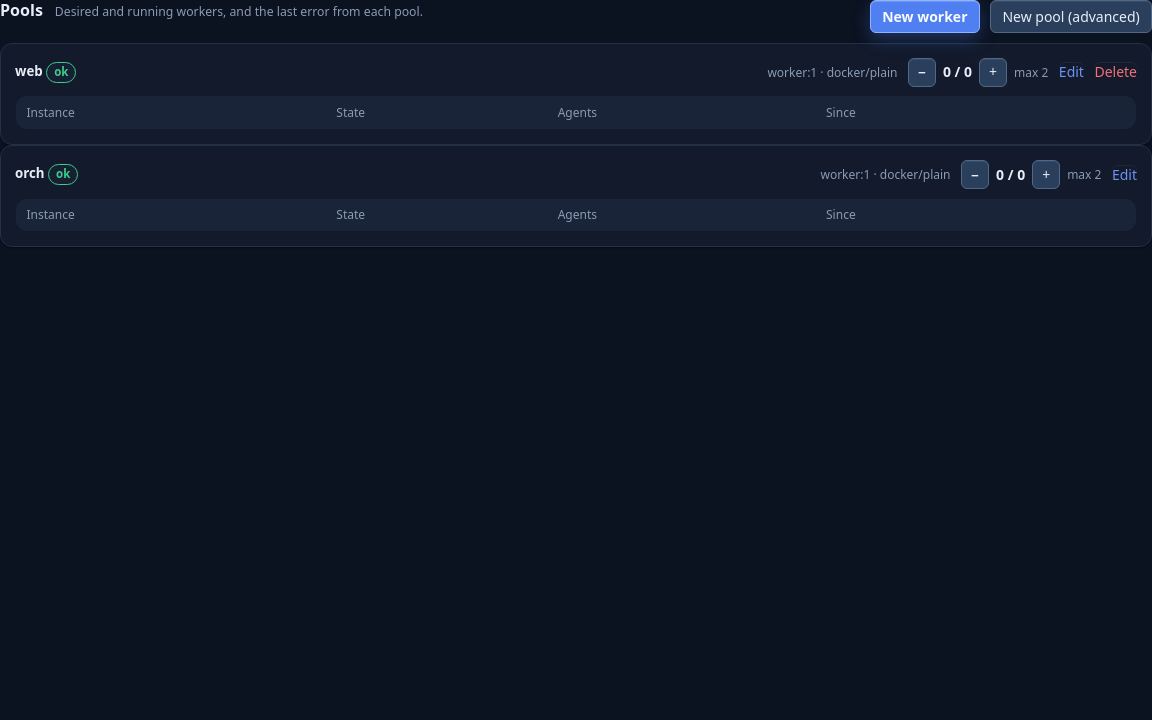
Test: Pools delete › hides Delete on system pools and enables only when the name matches
The width and height of the screenshot is (1152, 720).
Expected: the number of buttons "Edit" is 2, 1059,62 -> 1084,82; 1112,164 -> 1137,185
Click the button "Delete" at (1116, 72), box 1094,62 -> 1137,82
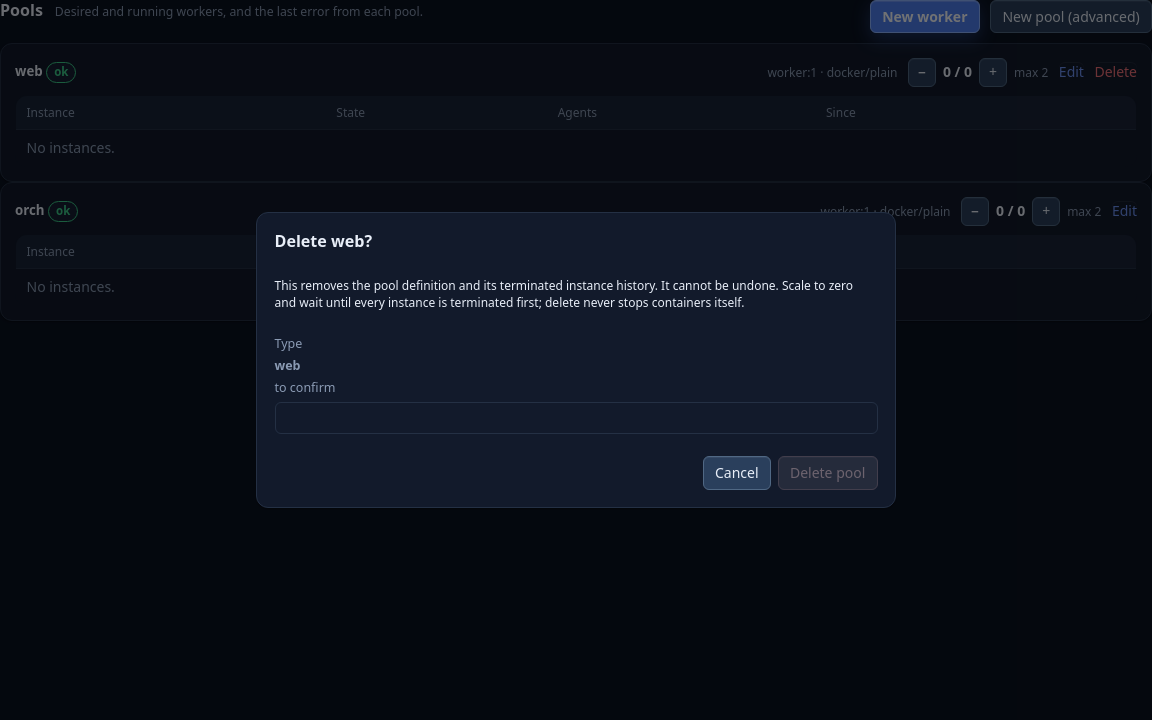
Expected: the button "Delete pool" is disabled, 778,456 -> 878,490
Type "we" into the field named "Confirm pool name" at (576, 418), box 274,402 -> 878,434
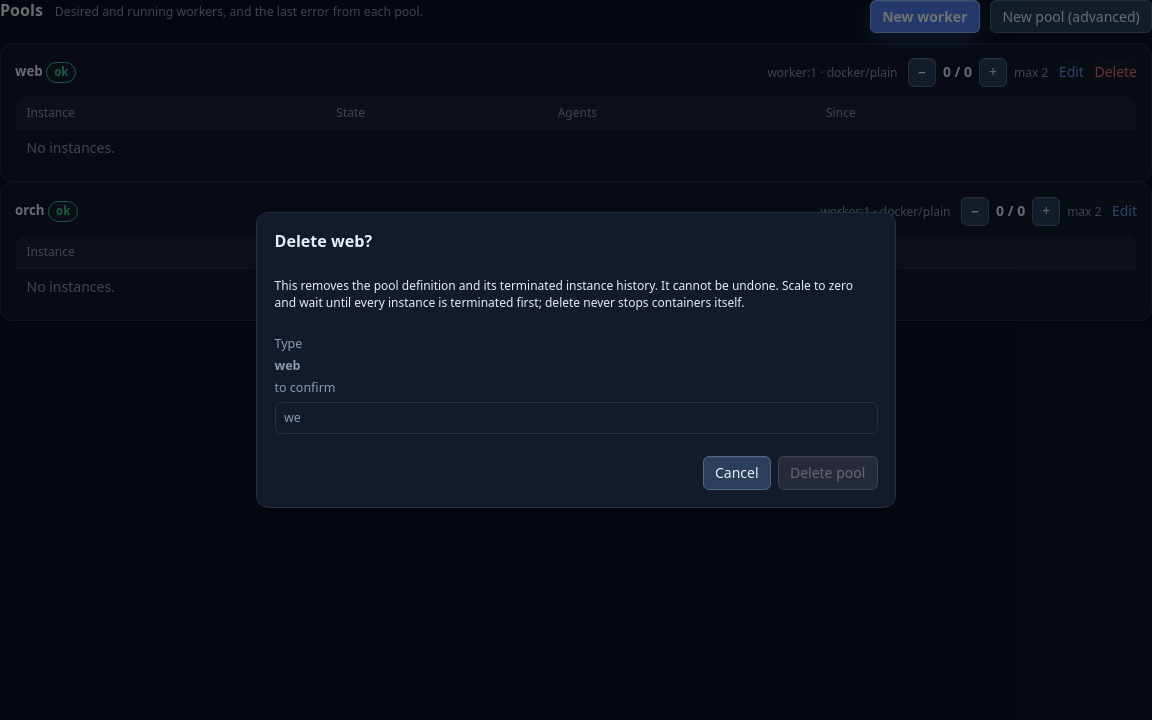
Expected: the button "Delete pool" is disabled, 778,456 -> 878,490
Replace the text in the field named "Confirm pool name" with "web" at (576, 418), box 274,402 -> 878,434
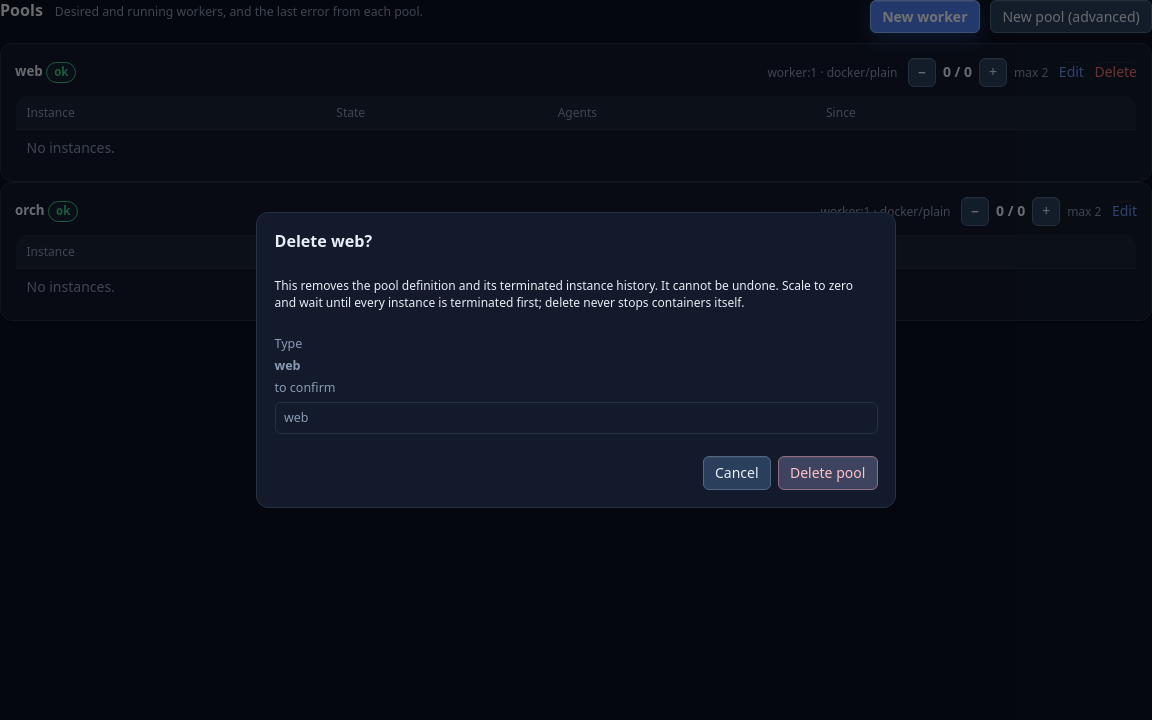
Click the button "Delete pool" at (828, 473), box 778,456 -> 878,490
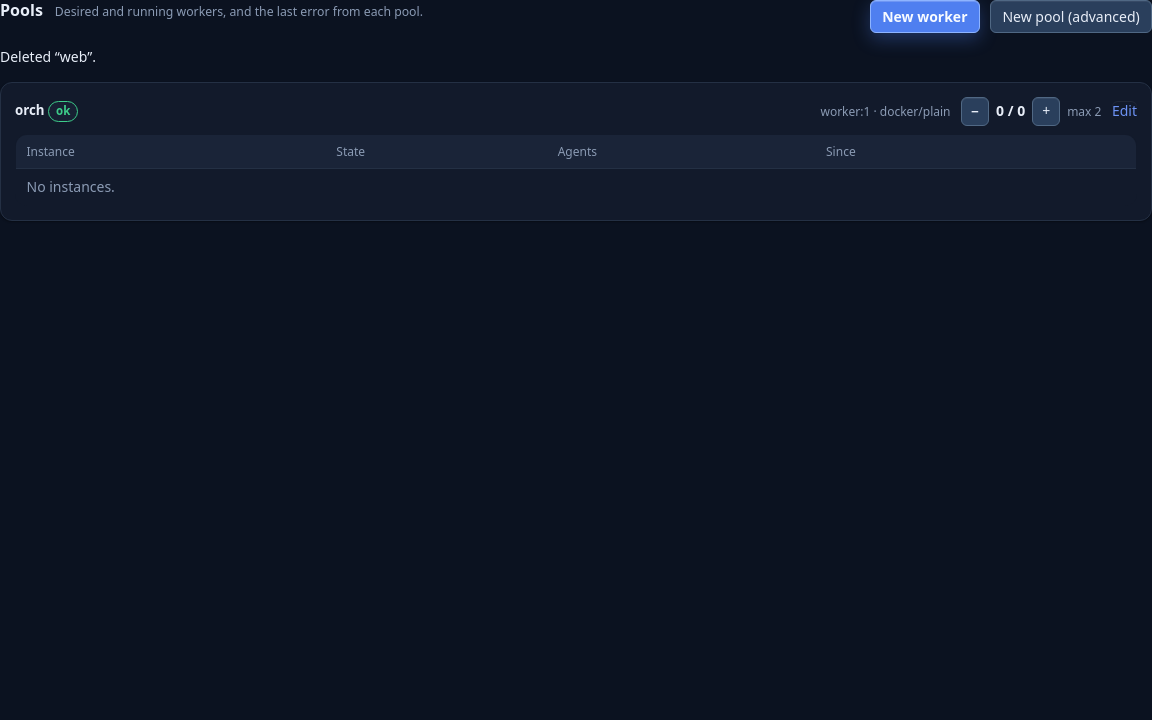
Expected: the text "Deleted “web”." is shown, 0,48 -> 96,66
